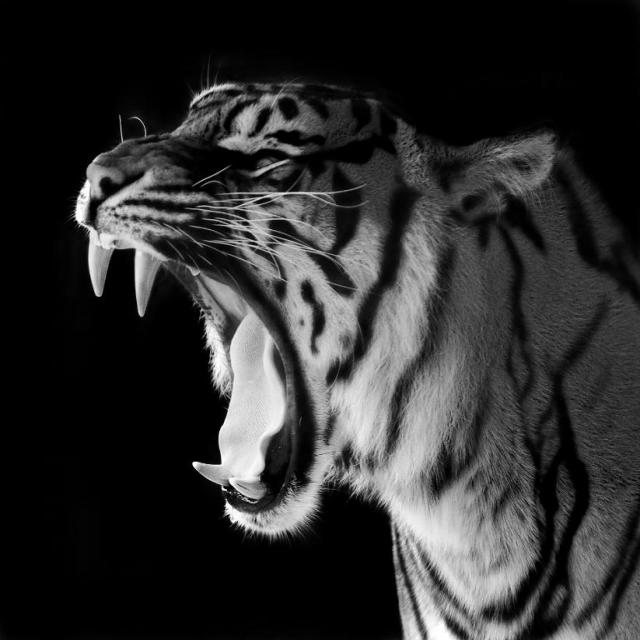Tiger: (72, 63, 640, 640)
